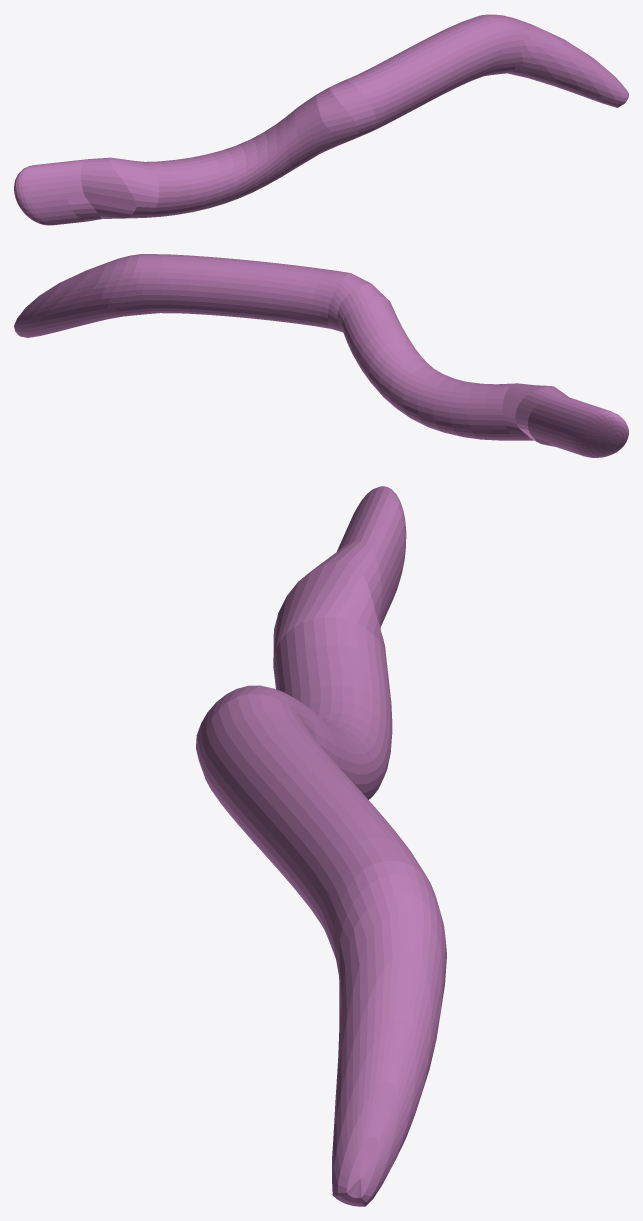
File: Sausage4.glb
3 views of the same model, one above another, from view 1: azimuth 30°, elevation 25°; view 2: azimuth 150°, elevation 25°; view 3: azimuth 270°, elevation 25° (orthographic). The views are drawn at different scales.
Parts seen in each view (by area): view 1: Sphere.006; view 2: Sphere.006; view 3: Sphere.006.
Part boxes in pixels (box(x1,y1,x2,y2)): Sphere.006: box(14, 14, 628, 225); Sphere.006: box(14, 254, 628, 457); Sphere.006: box(196, 486, 446, 1206).
Size of the model in its own units: 24.8 by 4.55 by 4.43.
